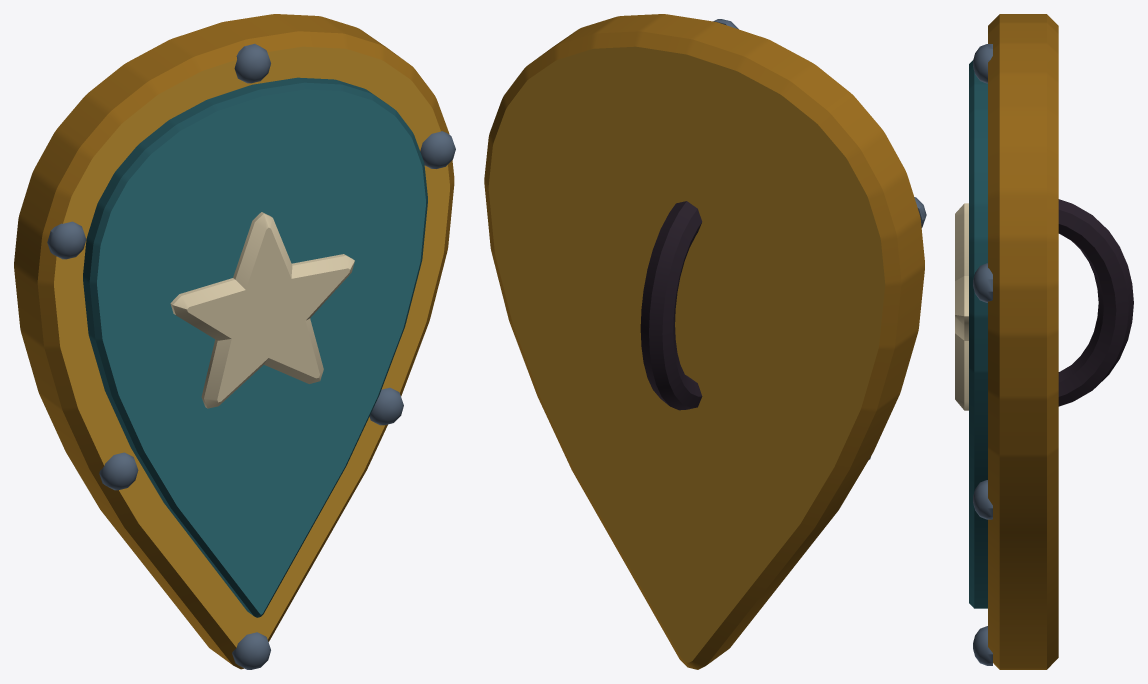
File: KiteShield_21.glb
3 renders of one model, left to right at view 1: azimuth 30°, elevation 25°; view 2: azimuth 150°, elevation 25°; view 3: azimuth 270°, elevation 25°, orthographic.
Visible parts, largest first — view 1: KiteShield_21; view 2: KiteShield_21; view 3: KiteShield_21.
Boxes of the visible parts, bbox=[...] form: KiteShield_21: bbox=[14, 14, 455, 669]; KiteShield_21: bbox=[484, 14, 926, 669]; KiteShield_21: bbox=[955, 14, 1133, 669].
Bounding box in the file's own units: 2.03 × 2.92 × 0.76.
